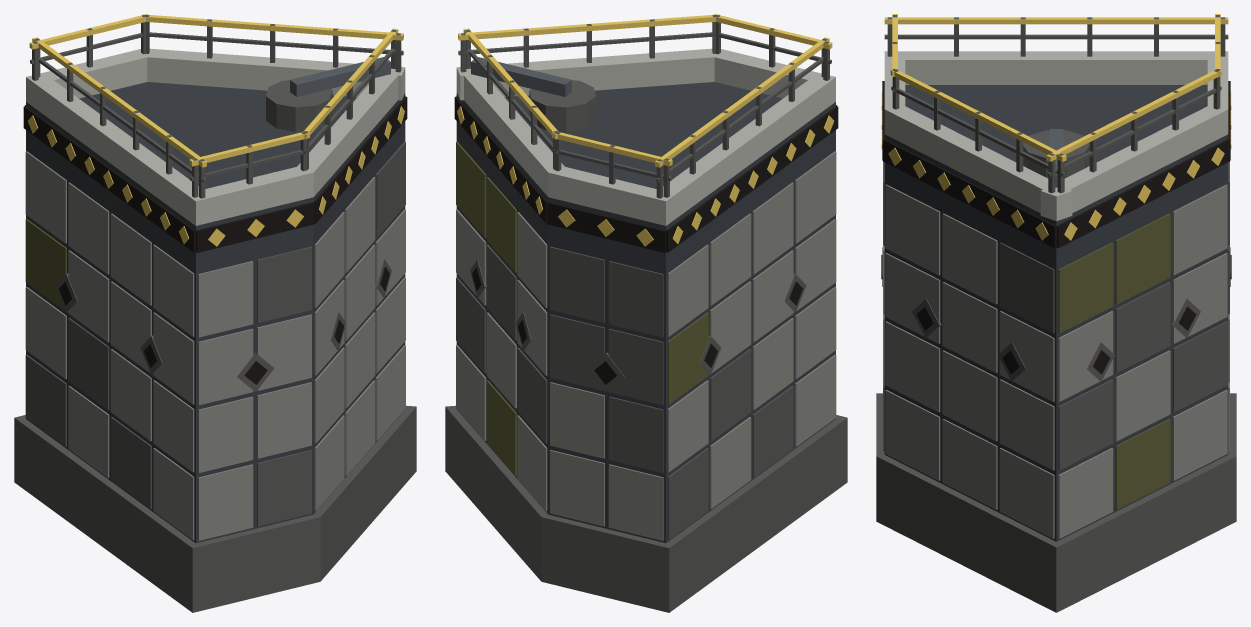
Rendered from fort_ship_bastion.glb.
3 renders of one model, left to right at view 1: azimuth 30°, elevation 25°; view 2: azimuth 150°, elevation 25°; view 3: azimuth 270°, elevation 25°, orthographic.
Parts seen in each view (by area): view 1: fort_ship_bastion; view 2: fort_ship_bastion; view 3: fort_ship_bastion.
Part boxes in pixels (box(x1,y1,x2,y2)): fort_ship_bastion: box(14, 14, 416, 612); fort_ship_bastion: box(445, 14, 847, 612); fort_ship_bastion: box(876, 14, 1236, 612).
Bounding box in the file's own units: 10.64 × 14.4 × 10.5.
